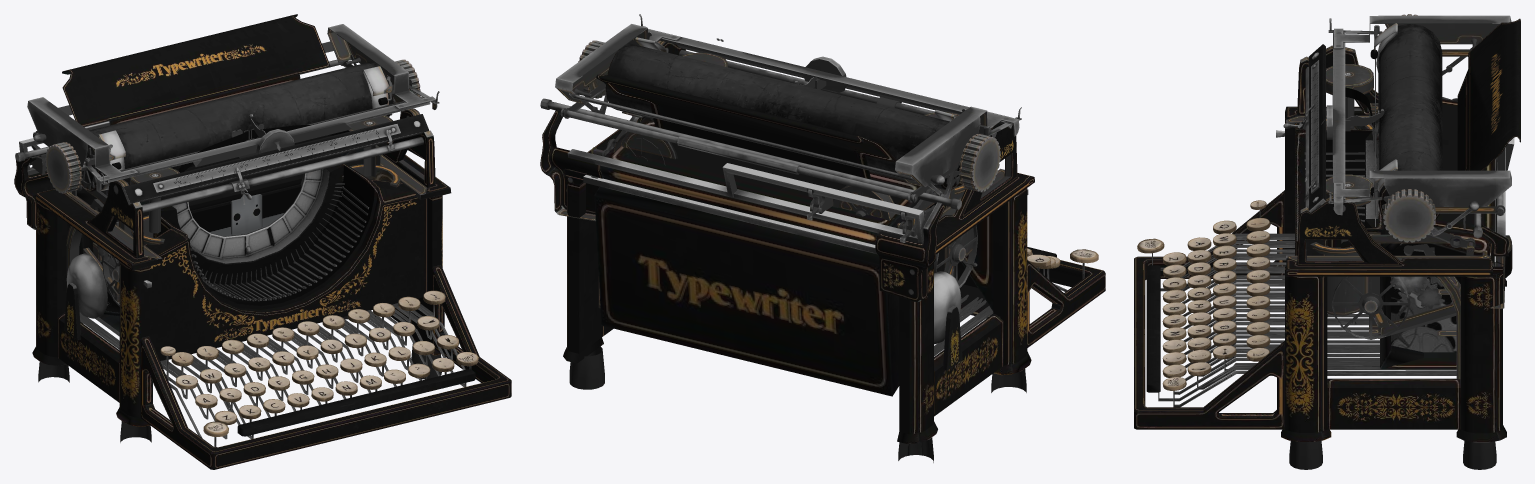
The model's file is victorian_typewriter.glb.
3 views of the same model, side by side, from view 1: azimuth 30°, elevation 25°; view 2: azimuth 150°, elevation 25°; view 3: azimuth 270°, elevation 25° (orthographic). The views are drawn at different scales.
Visible parts, largest first — view 1: Maquina_de_escribir:polySurface109_Base_maquina_0, Maquina_de_escribir:maquina1_Rodillo_0, Maquina_de_escribir:maquina4_Teclas_0, Maquina_de_escribir:polySurface104_Tuercas_0, Maquina_de_escribir:polySurface12_Reglas_0; view 2: Maquina_de_escribir:maquina1_Rodillo_0, Maquina_de_escribir:polySurface109_Base_maquina_0, Maquina_de_escribir:polySurface104_Tuercas_0, Maquina_de_escribir:polySurface12_Reglas_0, Maquina_de_escribir:maquina4_Teclas_0; view 3: Maquina_de_escribir:polySurface109_Base_maquina_0, Maquina_de_escribir:polySurface104_Tuercas_0, Maquina_de_escribir:maquina1_Rodillo_0, Maquina_de_escribir:maquina4_Teclas_0, Maquina_de_escribir:polySurface12_Reglas_0.
Part boxes in pixels (x1,y1,x2,y2): Maquina_de_escribir:polySurface109_Base_maquina_0: [32, 163, 511, 469]; Maquina_de_escribir:maquina1_Rodillo_0: [62, 14, 393, 331]; Maquina_de_escribir:maquina4_Teclas_0: [79, 183, 478, 446]; Maquina_de_escribir:polySurface104_Tuercas_0: [14, 24, 451, 323]; Maquina_de_escribir:polySurface12_Reglas_0: [15, 41, 430, 340]; Maquina_de_escribir:maquina1_Rodillo_0: [594, 43, 960, 396]; Maquina_de_escribir:polySurface109_Base_maquina_0: [563, 177, 1105, 462]; Maquina_de_escribir:polySurface104_Tuercas_0: [540, 14, 1034, 308]; Maquina_de_escribir:polySurface12_Reglas_0: [540, 37, 1028, 370]; Maquina_de_escribir:maquina4_Teclas_0: [934, 247, 1098, 356]; Maquina_de_escribir:polySurface109_Base_maquina_0: [1134, 117, 1506, 469]; Maquina_de_escribir:polySurface104_Tuercas_0: [1285, 14, 1512, 379]; Maquina_de_escribir:maquina1_Rodillo_0: [1378, 18, 1520, 369]; Maquina_de_escribir:maquina4_Teclas_0: [1137, 152, 1456, 407]; Maquina_de_escribir:polySurface12_Reglas_0: [1276, 32, 1514, 266].
Bounding box in the file's own units: 0.3833 × 0.2911 × 0.33.
Materials: 5 (5 with a texture image).
